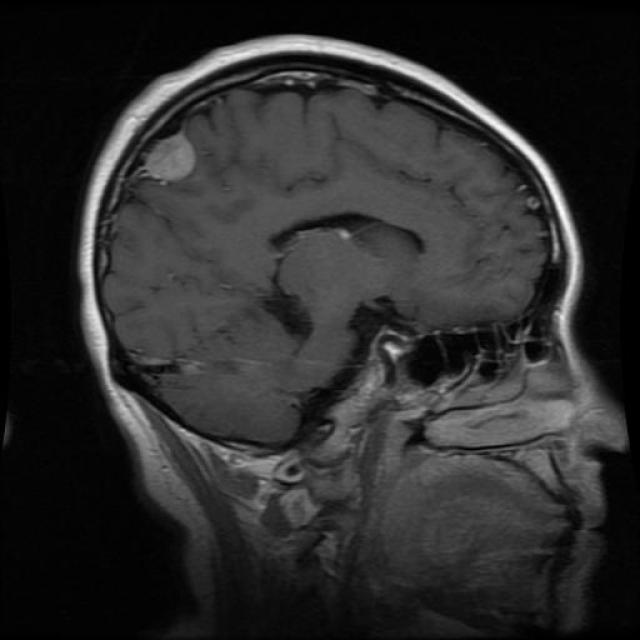meningioma: (139, 132, 196, 181)
